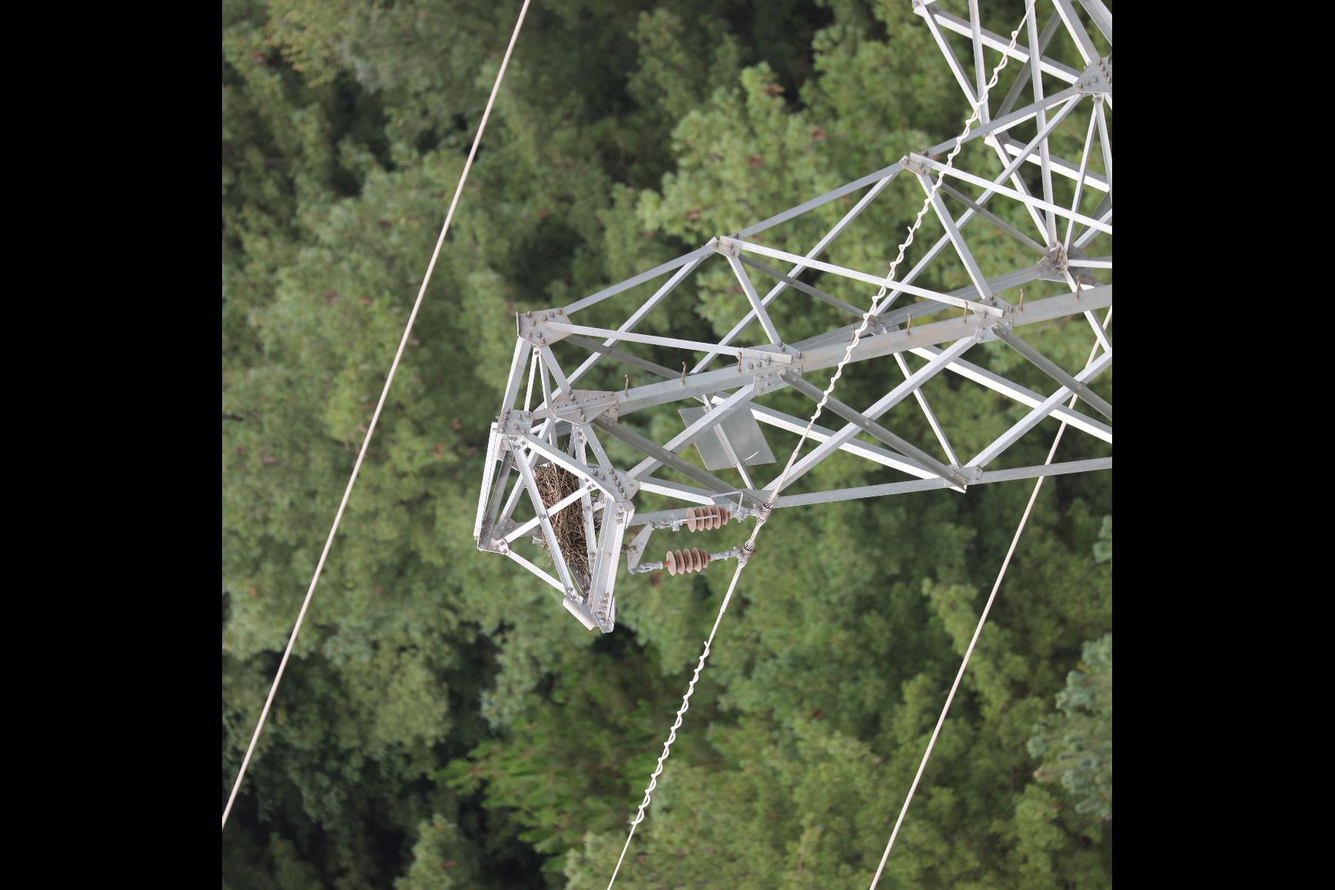nest: (530, 459, 592, 580)
